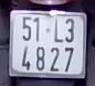1: (34, 15, 43, 44)
2: (48, 45, 60, 73)
3: (64, 16, 75, 45)
4: (18, 44, 32, 73)
5: (20, 15, 33, 43)
7: (63, 45, 76, 75)
8: (34, 43, 44, 73)
L: (53, 14, 64, 43)
